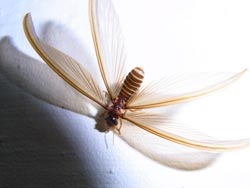flying termite: (16, 1, 249, 173)
